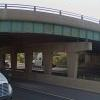Bridge: (2, 3, 91, 55)
